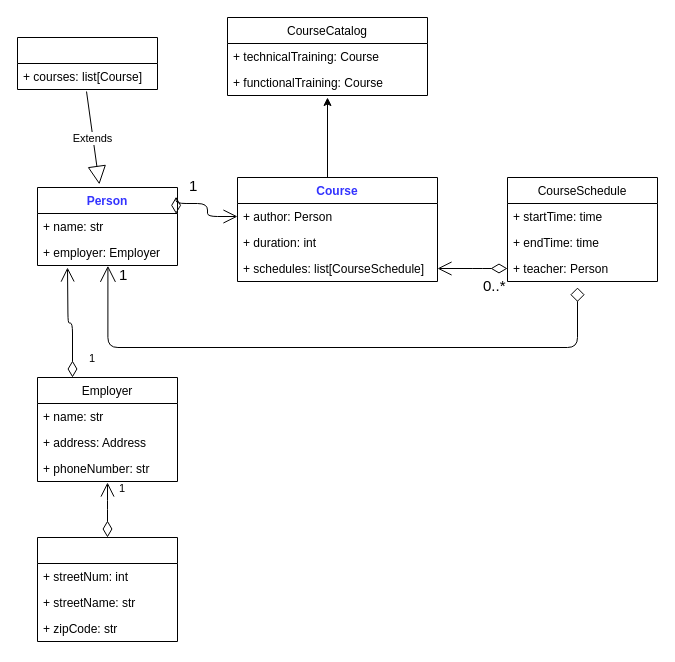
The diagram is 675 pixels wide and 662 high, and some of its shapes have lost their labels. Each missing label, with the box of its shape:
Address: (36, 536, 178, 642)
Student: (16, 36, 158, 90)
